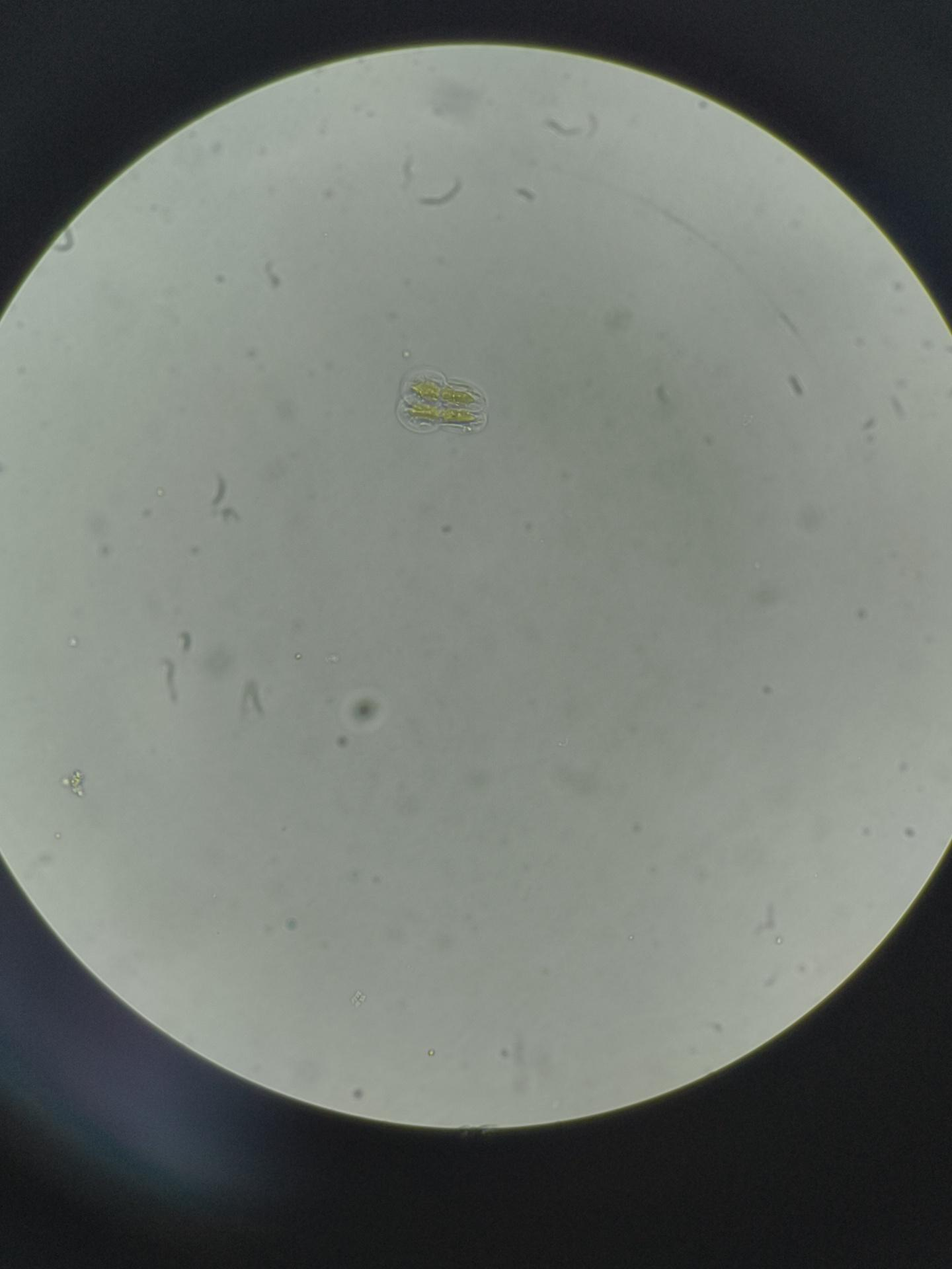Euglena: (388, 352, 495, 440)
